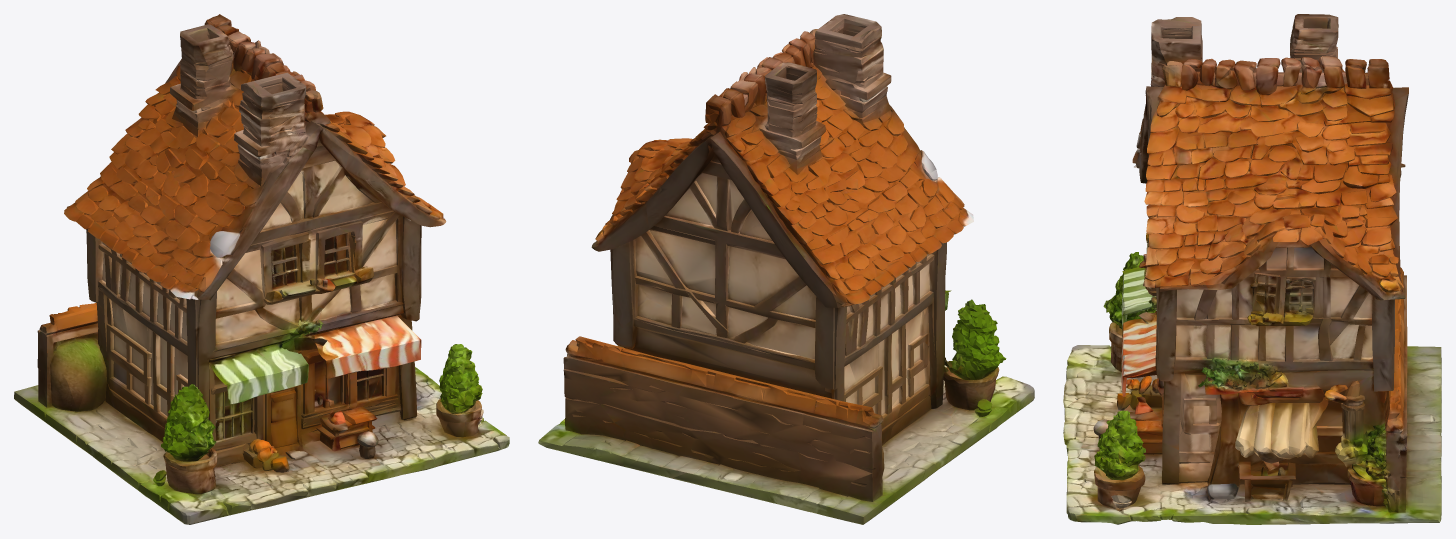
3 renders of one model, left to right at view 1: azimuth 30°, elevation 25°; view 2: azimuth 150°, elevation 25°; view 3: azimuth 270°, elevation 25°, orthographic. The views are drawn at different scales.
Parts seen in each view (by area): view 1: model; view 2: model; view 3: model.
Part boxes in pixels (bbox=[...]): model: bbox=[14, 14, 509, 524]; model: bbox=[538, 14, 1034, 524]; model: bbox=[1063, 14, 1441, 524].
Size of the model in its own units: 1.72 by 1.9 by 1.62.
1 material, 1 textured.
